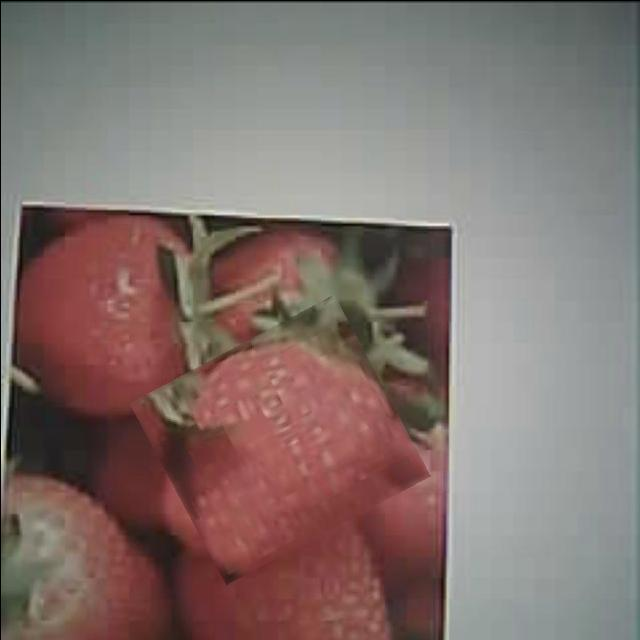strawberry: (146, 315, 412, 563)
